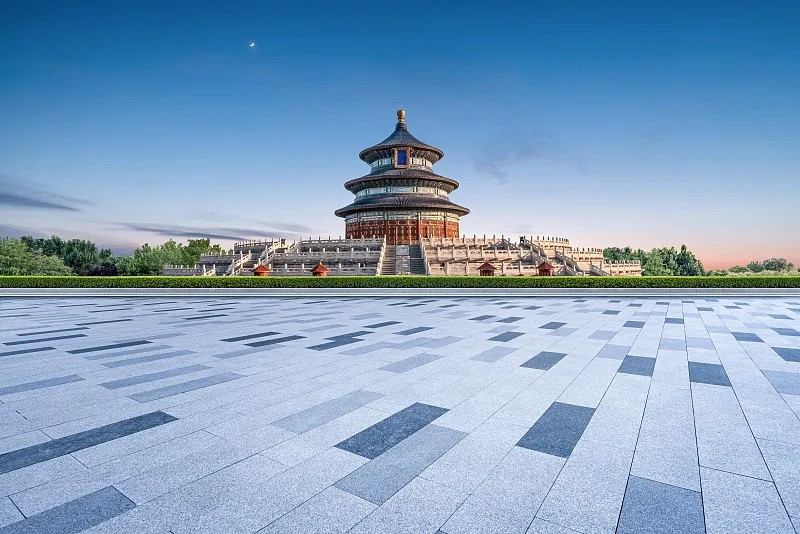Heaven: (334, 109, 471, 244)
